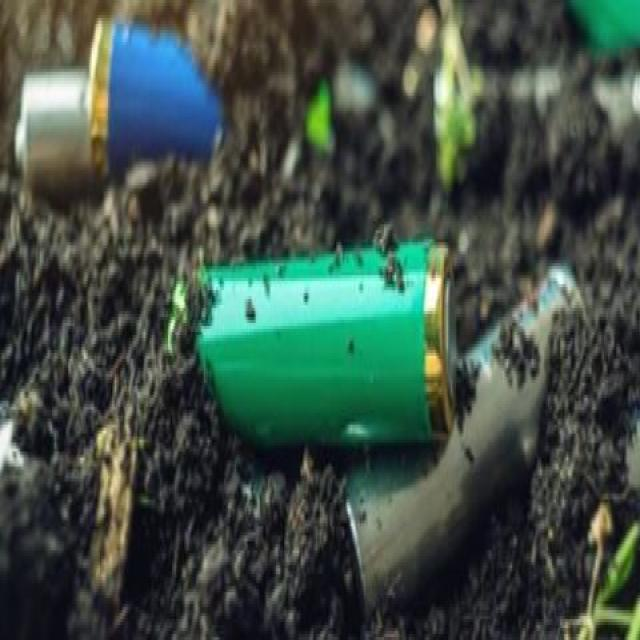electronic: (154, 225, 496, 462)
